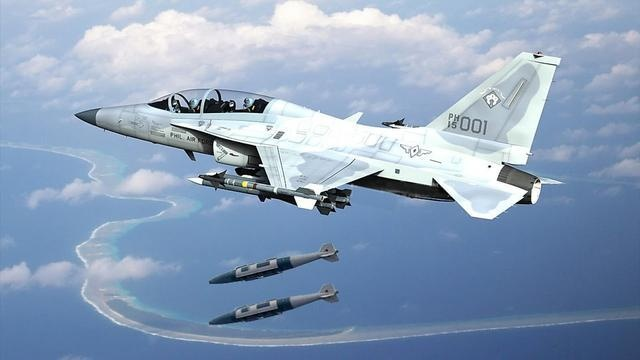airplane: (71, 50, 574, 218)
